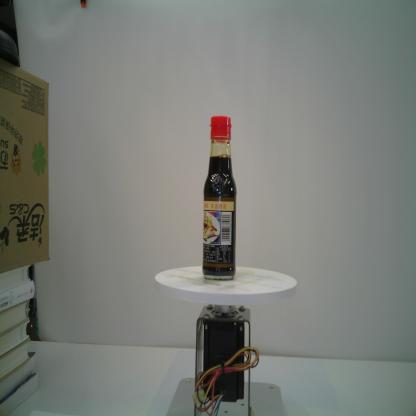Seasoner: (202, 113, 238, 283)
